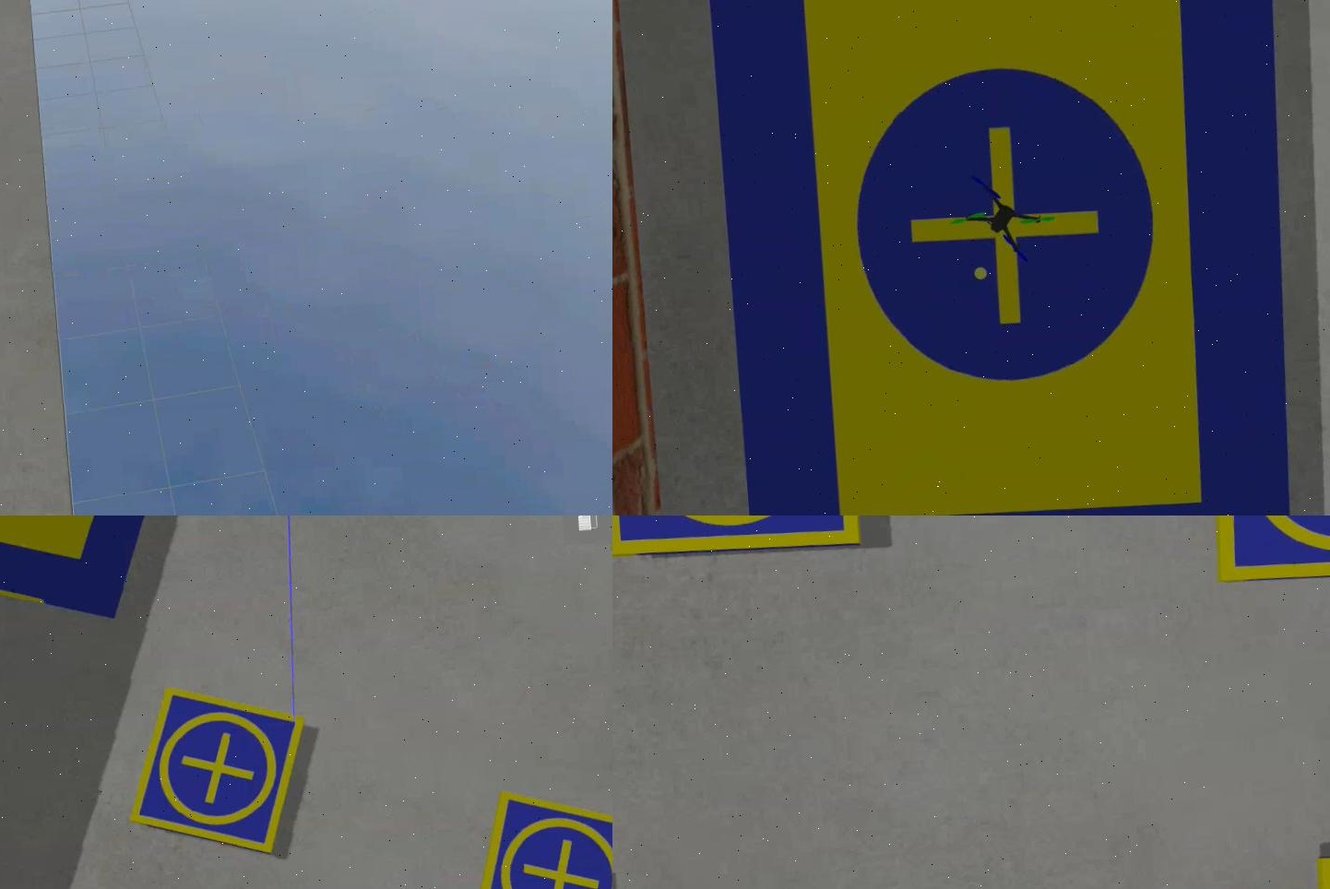large_base: (695, 1, 1319, 516), (0, 516, 165, 634)
small_base: (121, 681, 311, 861), (464, 783, 611, 889), (611, 516, 864, 560)
